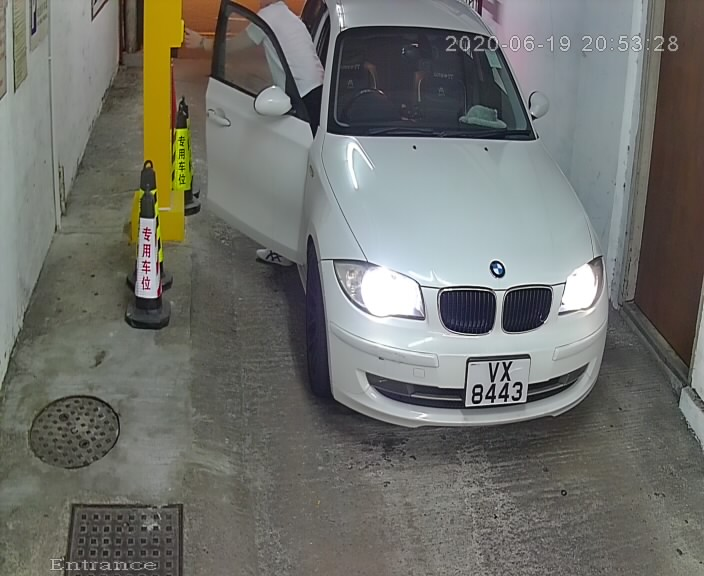privatecar: (266, 3, 614, 438)
